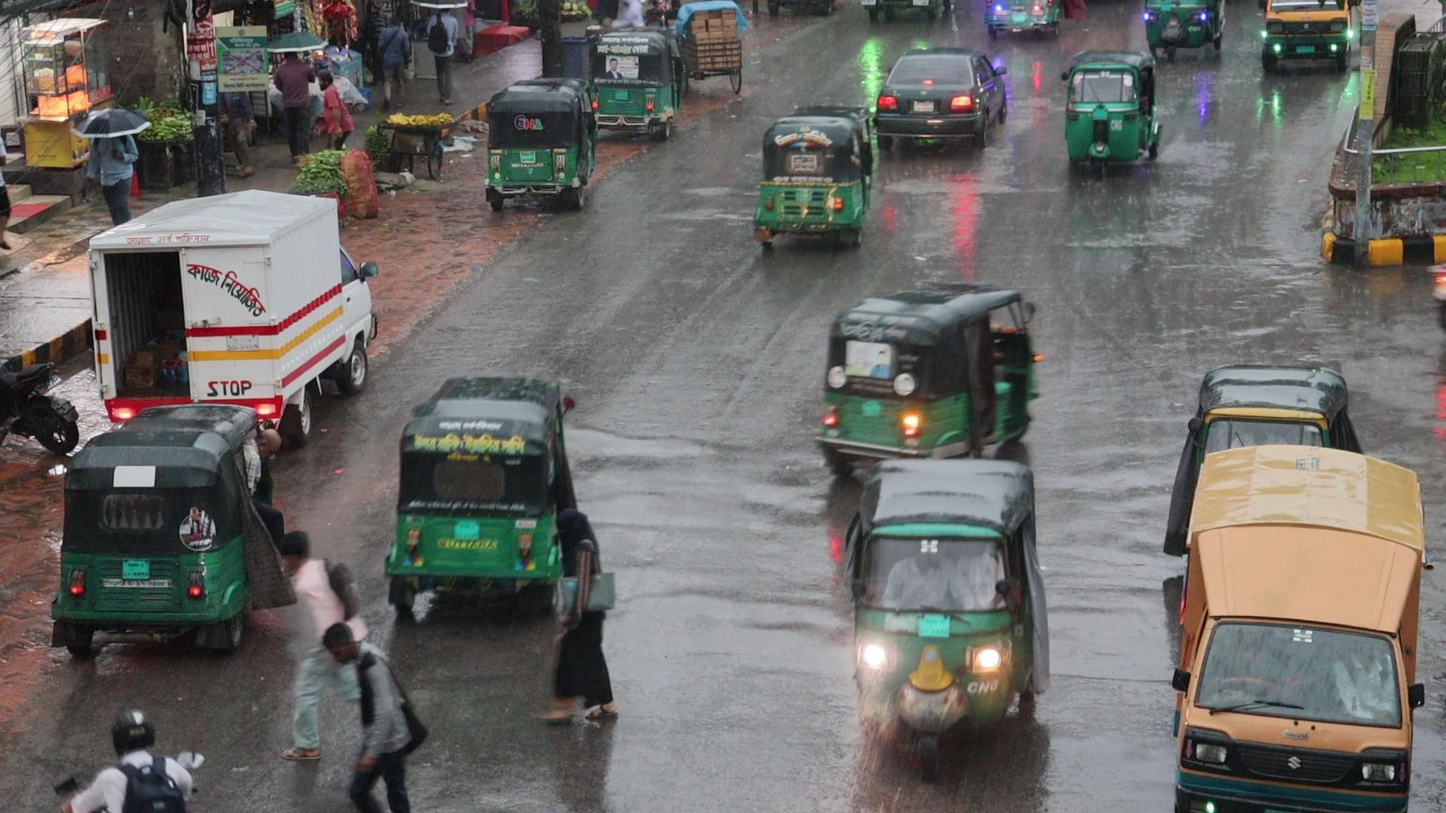Car: (871, 39, 1018, 158)
Truck: (1171, 443, 1426, 813)
